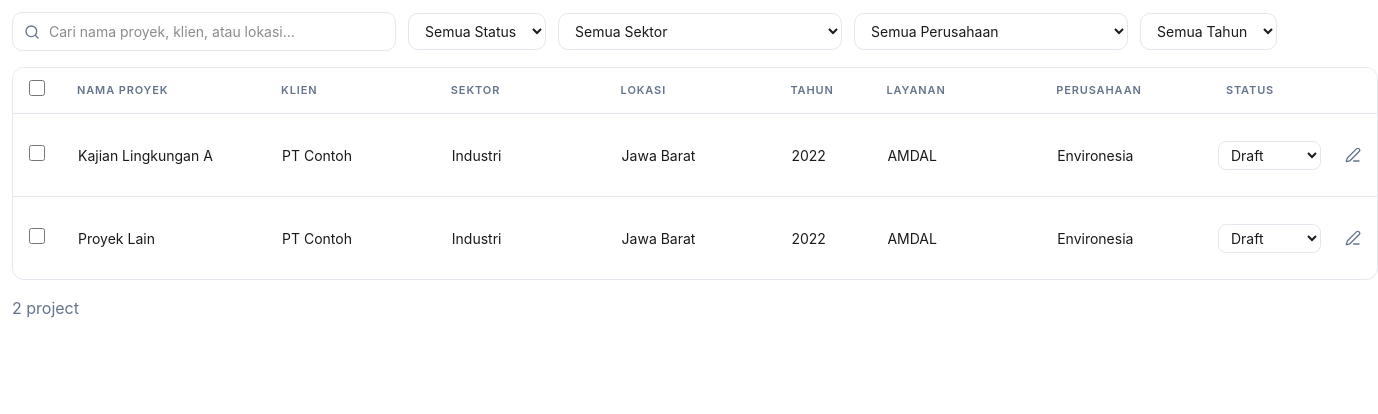
ProjectsTableEditor — bulk selection and actions › "Pilih Semua" selects every currently filtered row and shows a live count
Click the checkbox named "Pilih Semua". click: [37, 88]
box: [29,80,45,96]
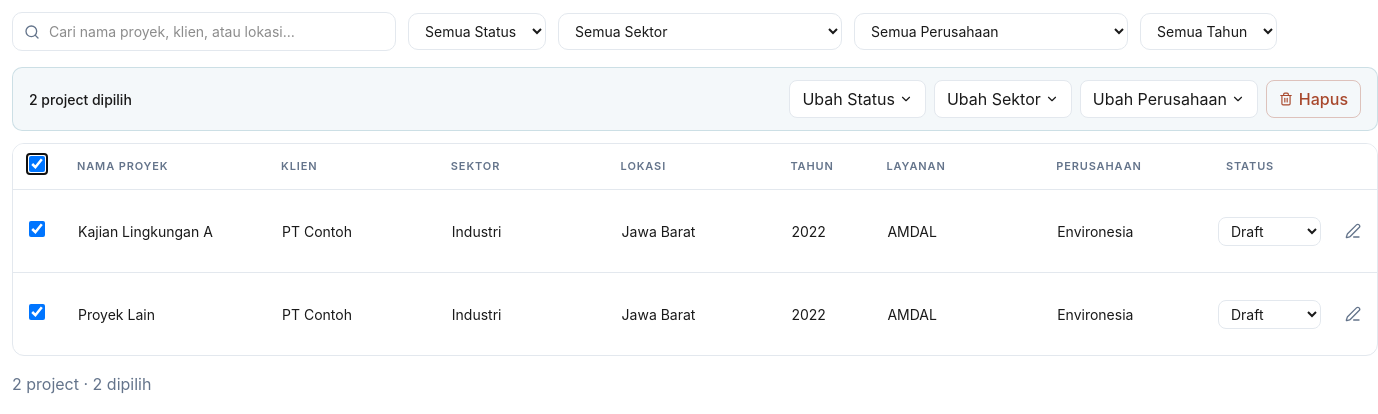
Expected: the text "2 project · 2 dipilih" is shown, [12,372,151,398]
